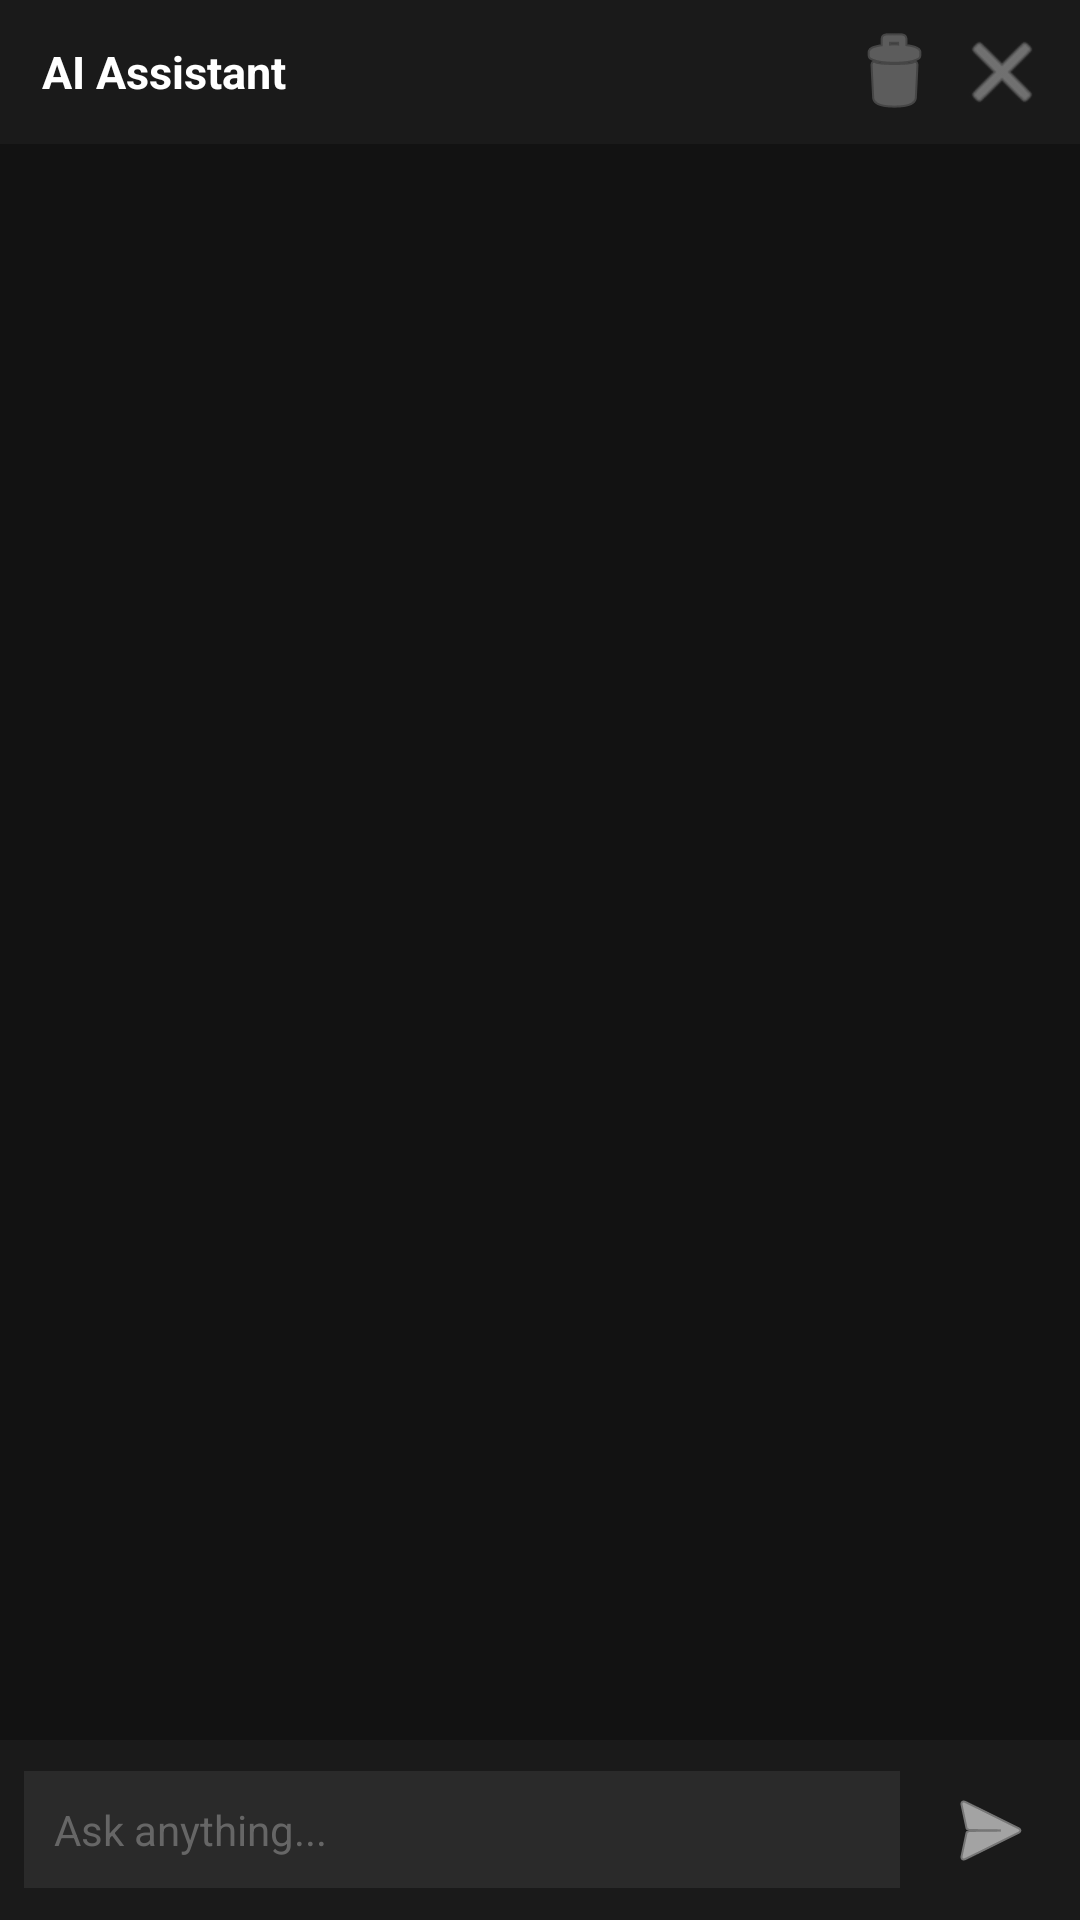

Locate icon controls on the screen. Image size 1080px×1920px, boxes as (x1, y1, x2, y2).
Clear chat: (868, 33, 921, 108)
Close: (972, 42, 1032, 102)
Send: (960, 1800, 1022, 1861)
